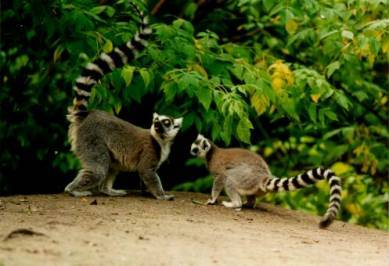cat: (65, 0, 181, 200), (191, 132, 341, 226)
